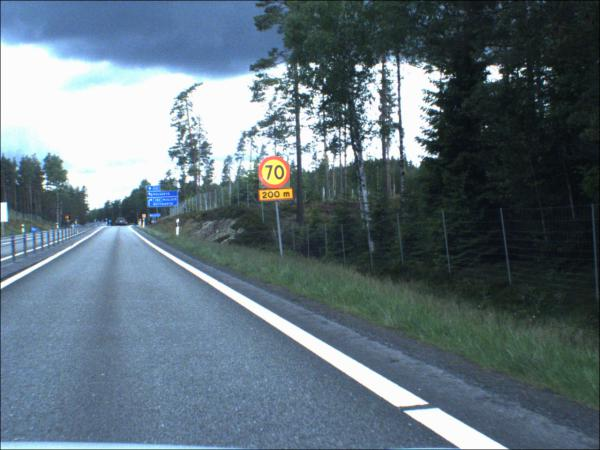70_SIGN: (260, 157, 292, 190), (143, 215, 148, 220), (67, 217, 72, 221)
PASS_RIGHT_SIDE: (110, 220, 114, 224)
